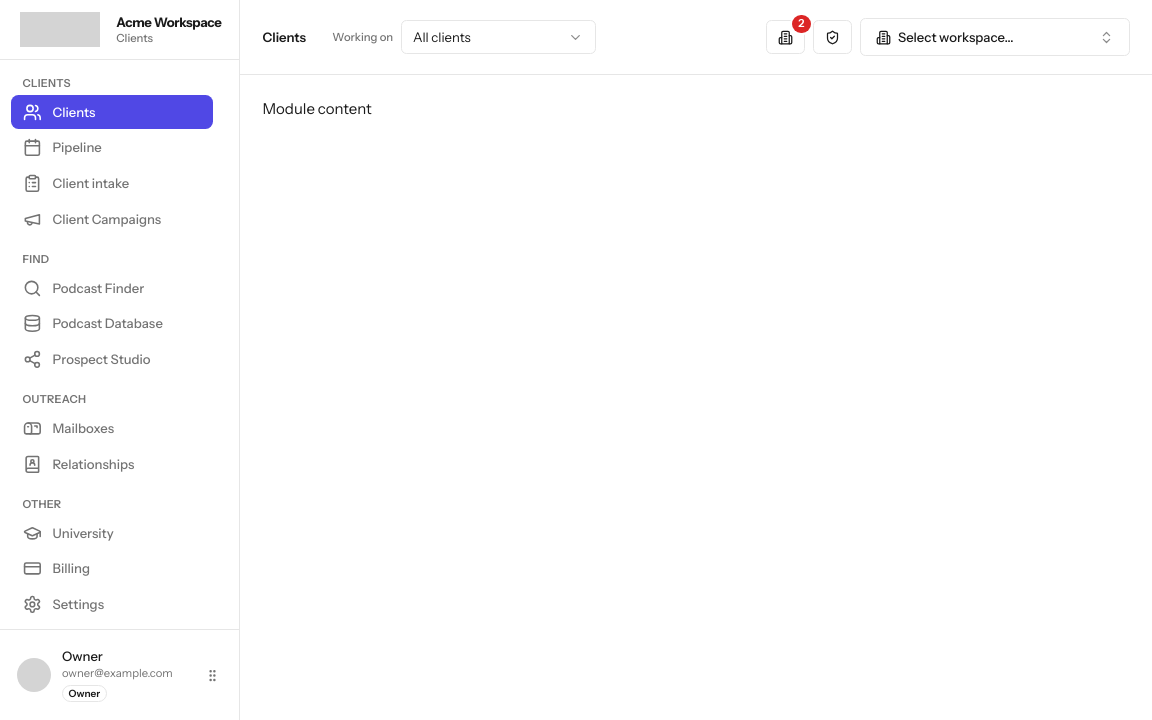
it: WorkspaceLayout › says what the number on the workspaces button counts
Focus the link named "Manage workspaces" at (785, 37), box [766,20,805,54]
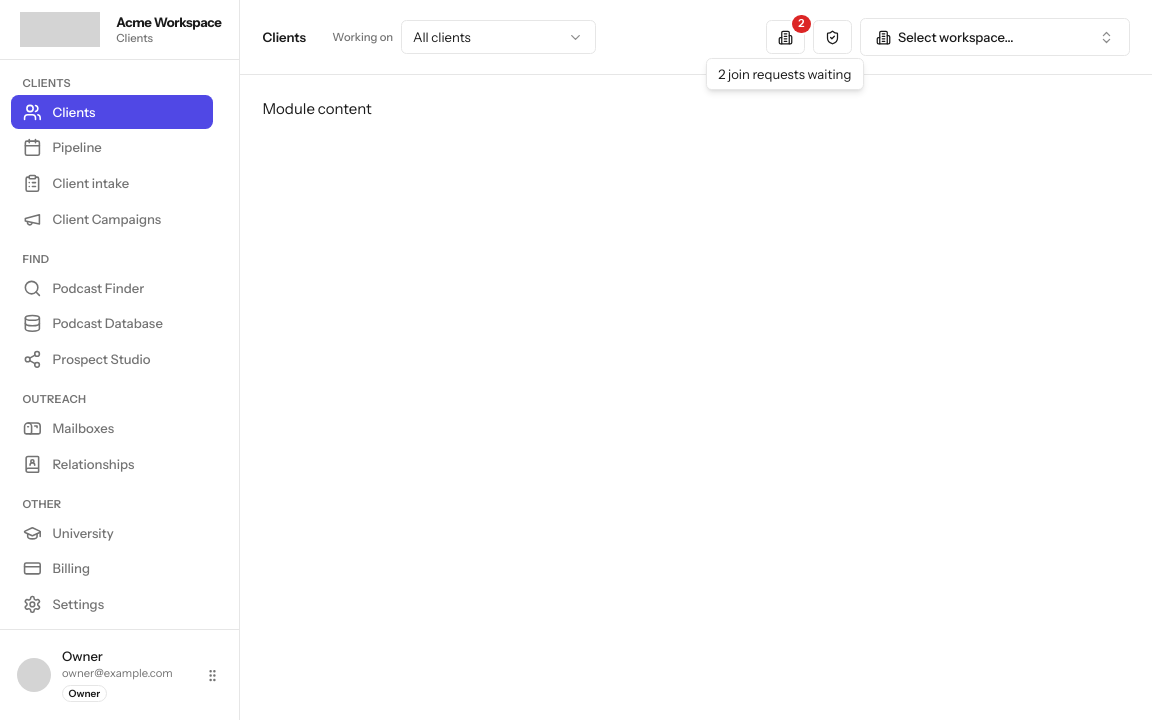
Check: the tooltip "2 join requests waiting" is shown, box [706,58,864,90]
